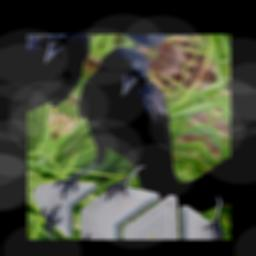Crow: (31, 38, 229, 238)
